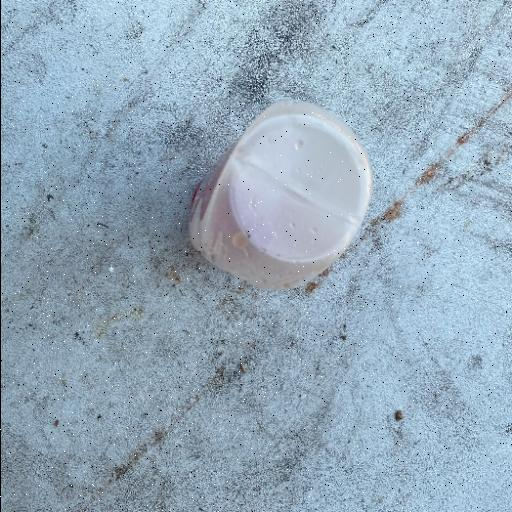Plastic: (185, 96, 373, 292)
